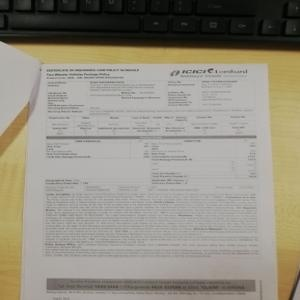image: (164, 65, 251, 84)
table: (43, 134, 259, 191), (44, 108, 255, 136)
text: (46, 190, 260, 261), (44, 63, 143, 82)
